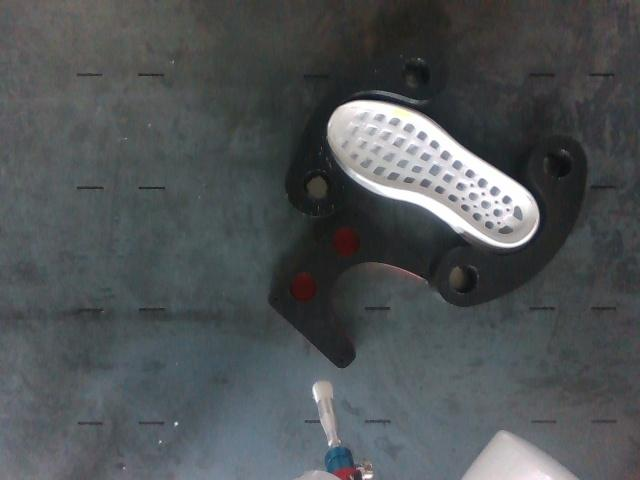shoes: (329, 102, 537, 244)
